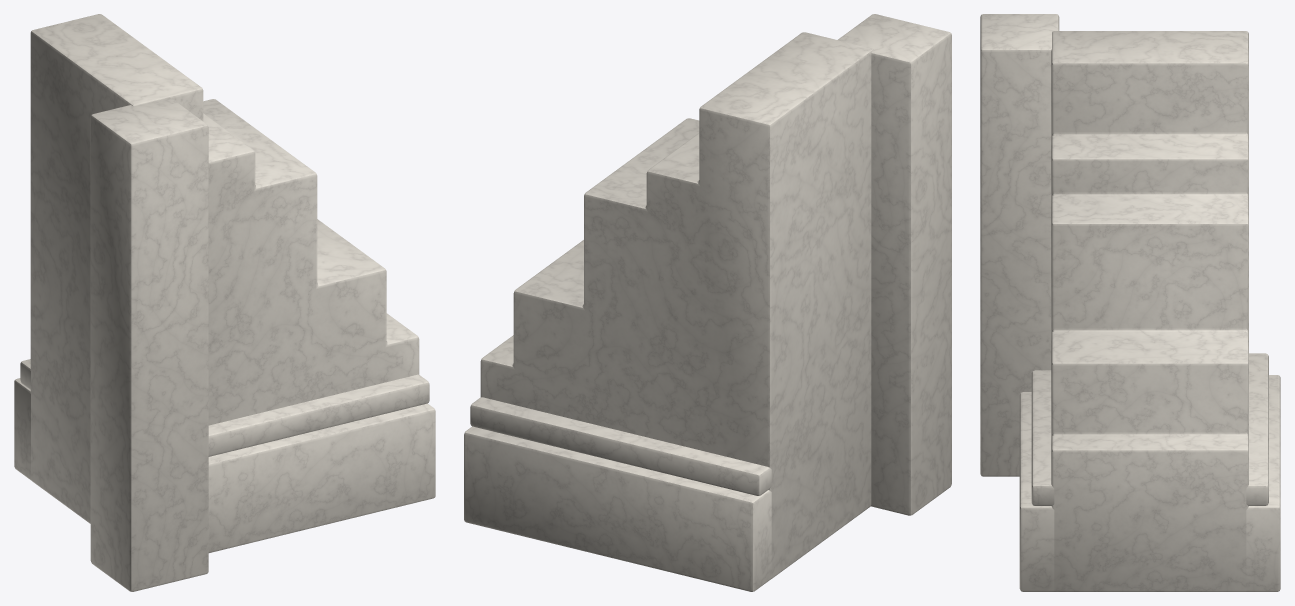
The model's file is HolyWall_Stub.fbx.
The picture shows the model from 3 angles, left to right: view 1: azimuth 30°, elevation 25°; view 2: azimuth 150°, elevation 25°; view 3: azimuth 270°, elevation 25°; orthographic projection. The views are drawn at different scales.
Visible parts, largest first — view 1: HolyWall_Stub; view 2: HolyWall_Stub; view 3: HolyWall_Stub.
Boxes of the visible parts, x1,y1,x2,y2 form: HolyWall_Stub: (14, 14, 435, 591); HolyWall_Stub: (464, 14, 951, 591); HolyWall_Stub: (980, 14, 1280, 591).
Bounding box in the file's own units: 4.55 × 6 × 3.8.
